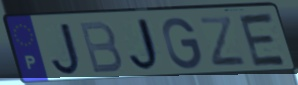B: (76, 20, 125, 76)
E: (236, 11, 289, 69)
G: (160, 15, 204, 71)
J: (128, 16, 166, 75), (49, 21, 83, 78)
Z: (196, 15, 249, 68)
